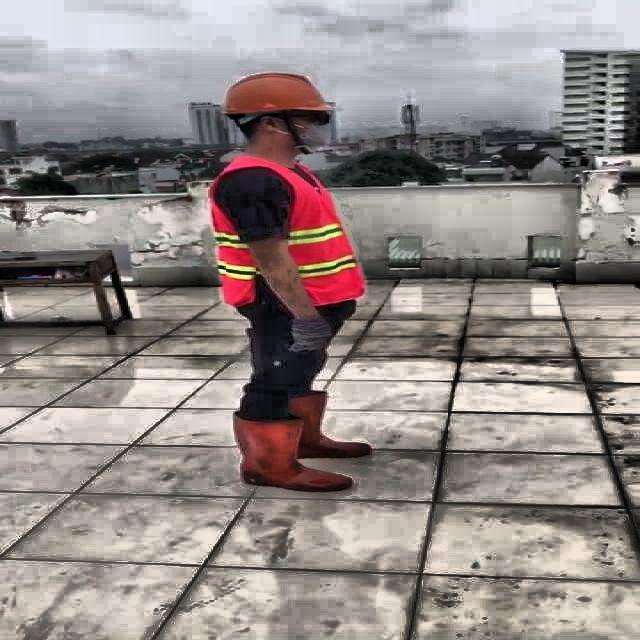safety_helmet: (224, 68, 338, 115)
safety_jacket: (201, 156, 368, 304)
